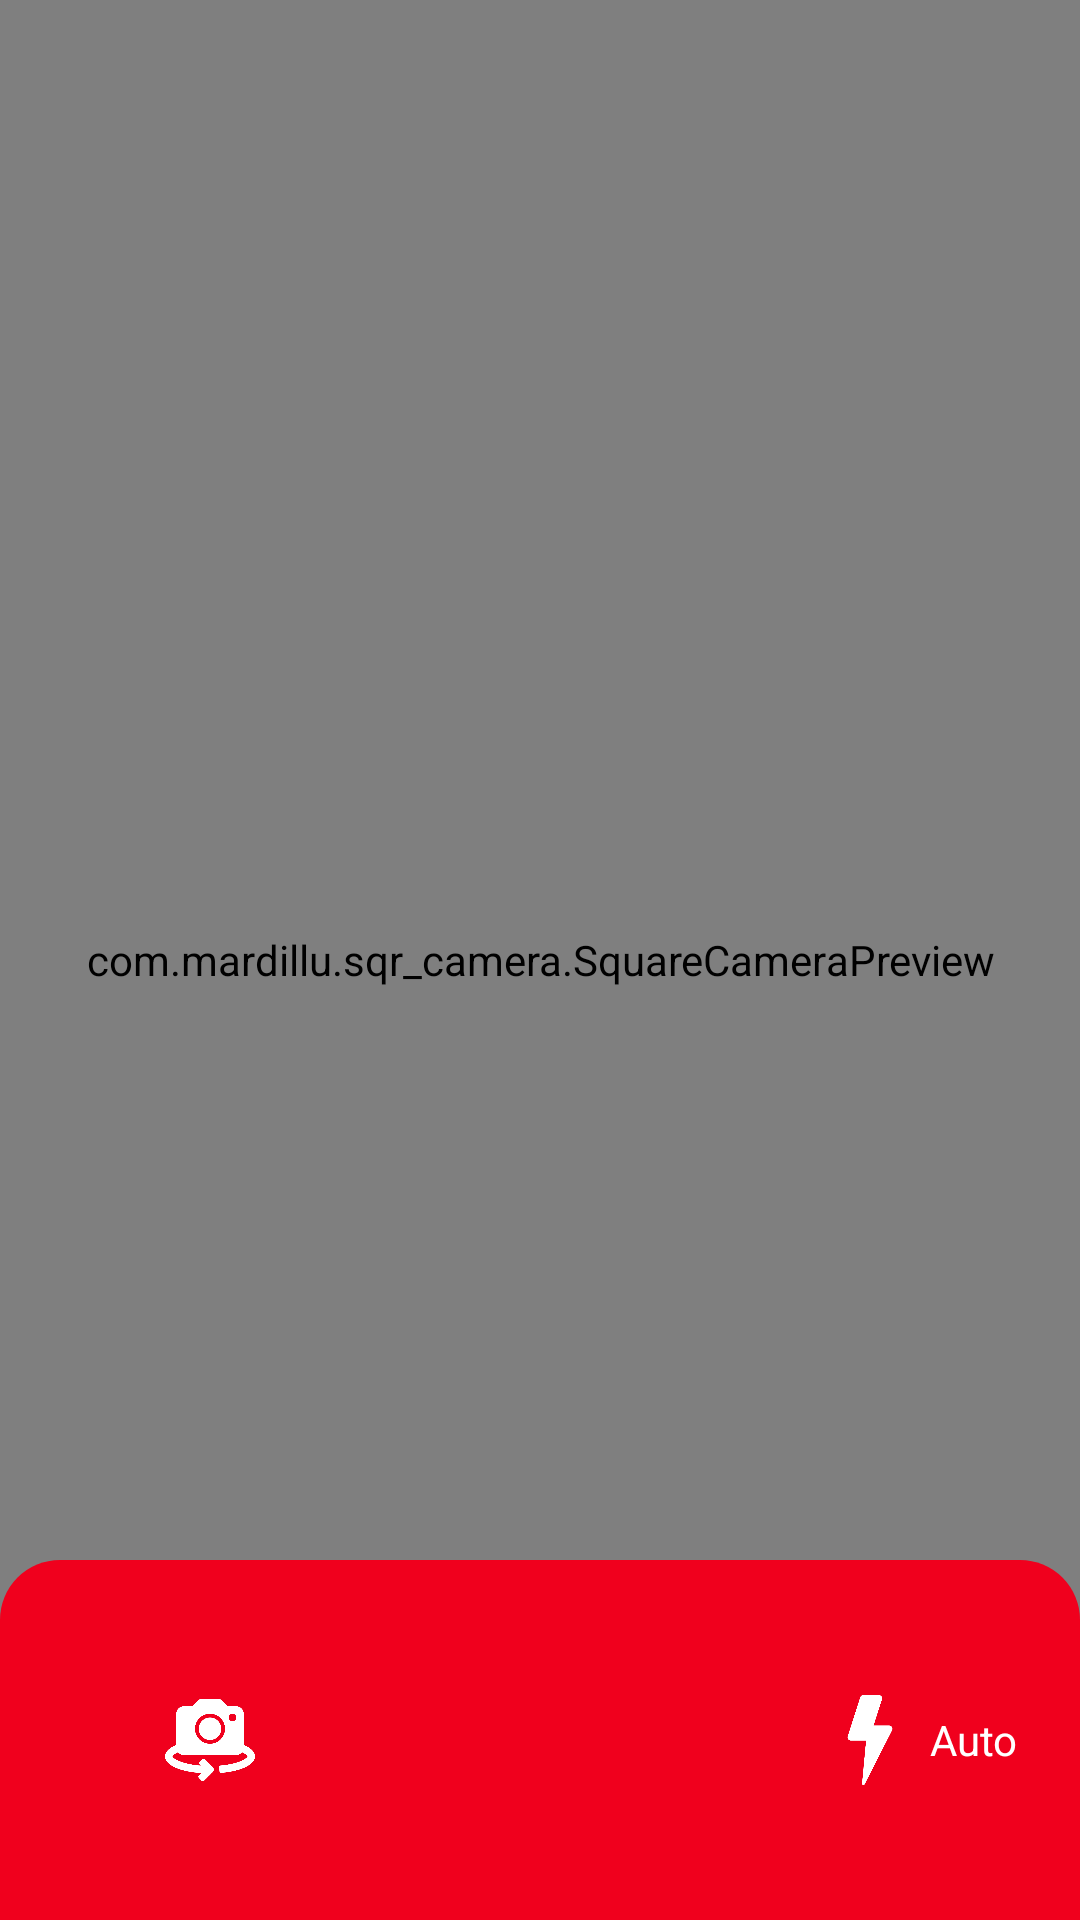

Screen size 1080 x 1920. Icon name, then its box in pixels as (x1,y1,x2,y2):
squarecamera camera: (165,1699,255,1781)
squarecamera toggle flash: (847,1695,893,1785)
